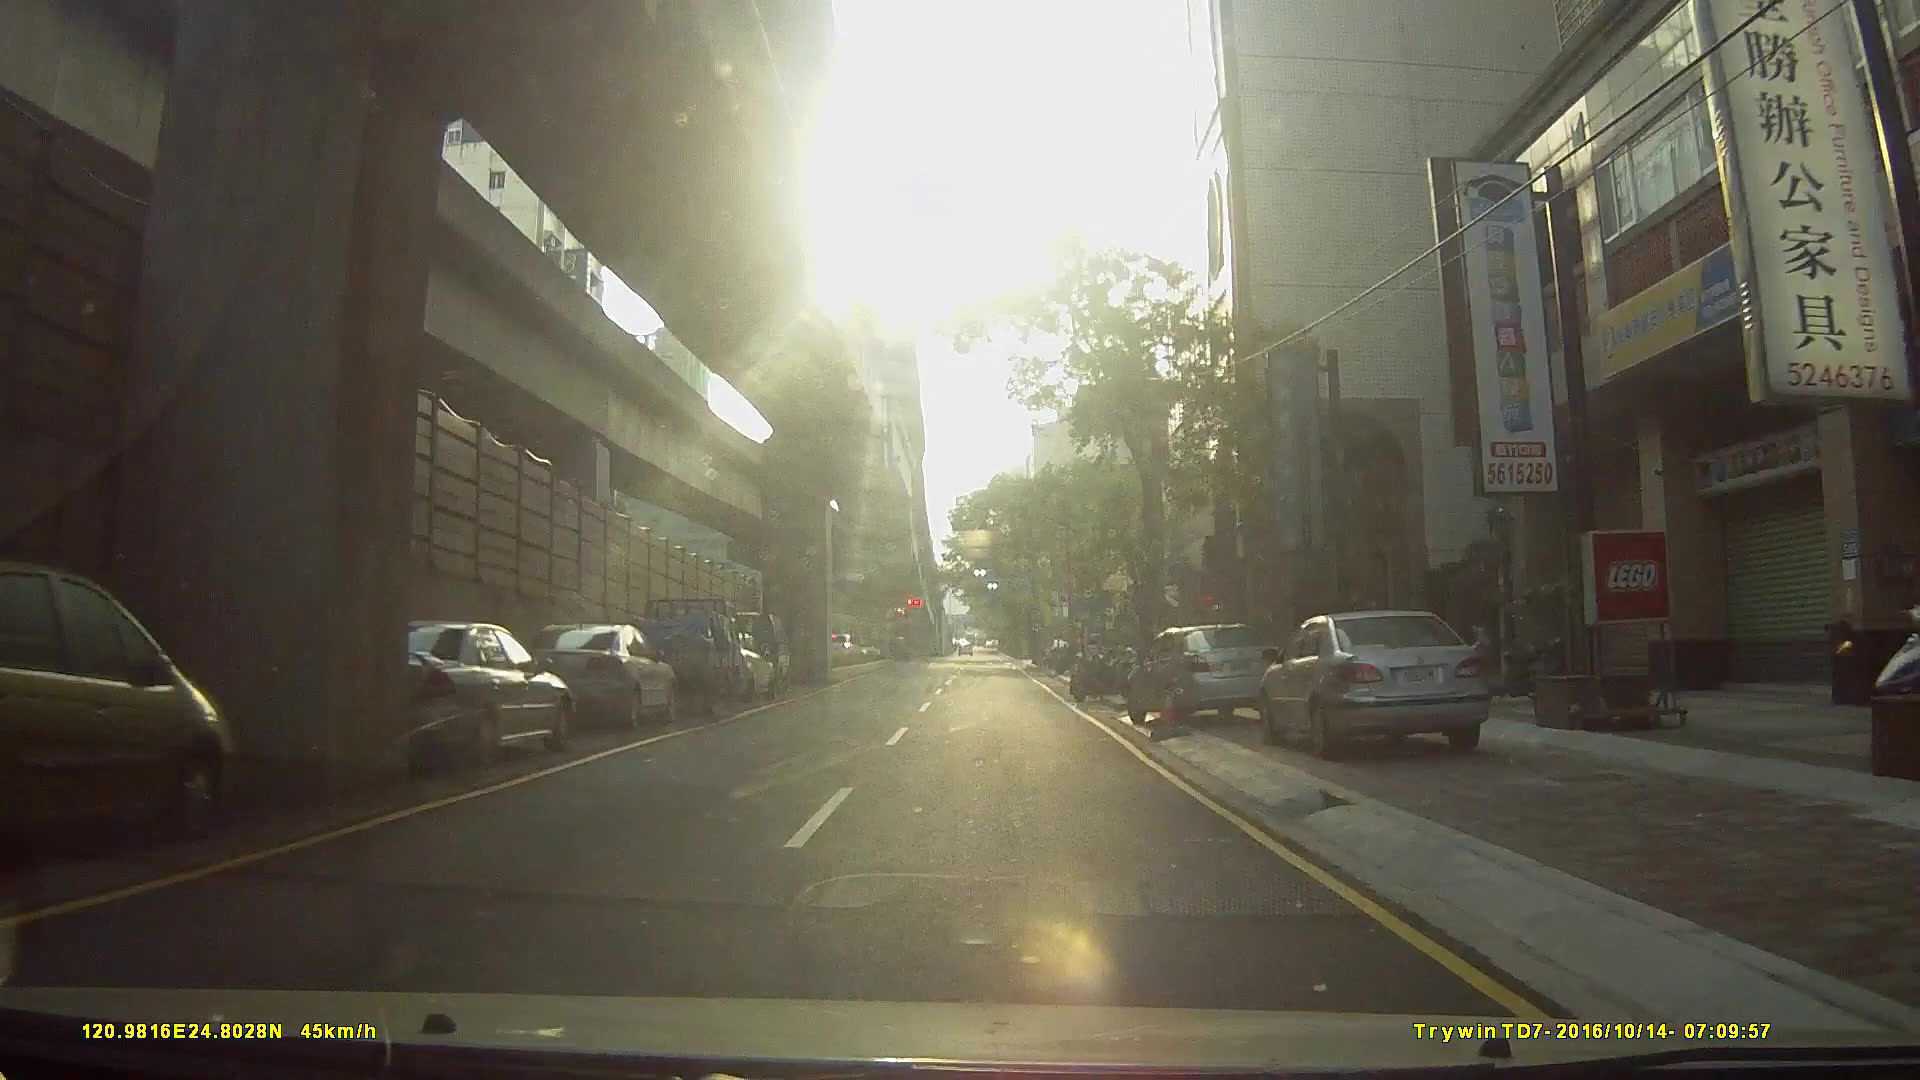rider: (1070, 628, 1131, 700)
vehicle: (1, 565, 249, 862), (1261, 605, 1505, 759), (350, 618, 566, 771), (506, 618, 674, 730), (1127, 618, 1292, 729), (614, 591, 742, 715)
